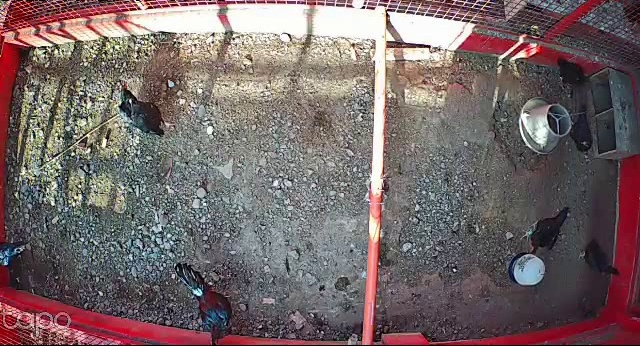Chicken: (115, 83, 178, 139), (520, 205, 571, 256), (577, 238, 622, 278), (567, 102, 597, 154), (556, 59, 594, 86)
Drinker: (508, 251, 547, 287)
Feeder: (519, 94, 572, 156)
Leg_Band_Green: (528, 229, 533, 237)
Rooster: (171, 261, 237, 346)
